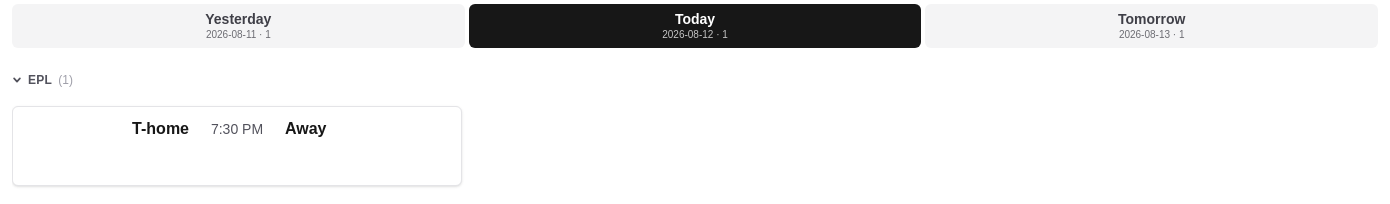
HomeClient (static cases) › clicking a tab swaps the rendered panel
expect the text "T-home" is shown: met, box [132,117,189,141]
Click the tab with test id "day-tab-yesterday" at (238, 26), box [12,4,465,48]
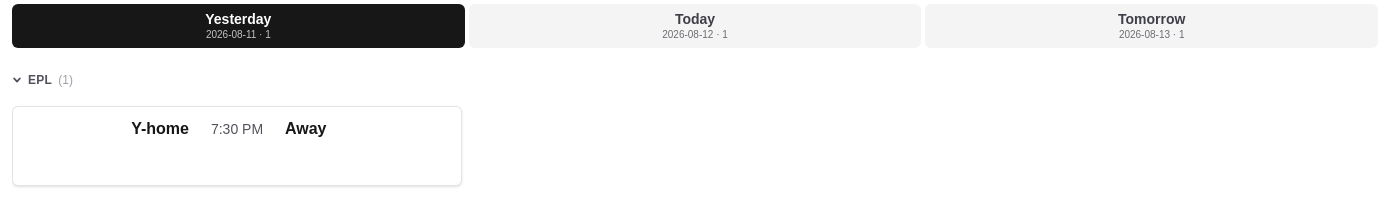
expect the text "Y-home" is shown: met, box [131,117,189,141]
expect the text "T-home" is gone: met
